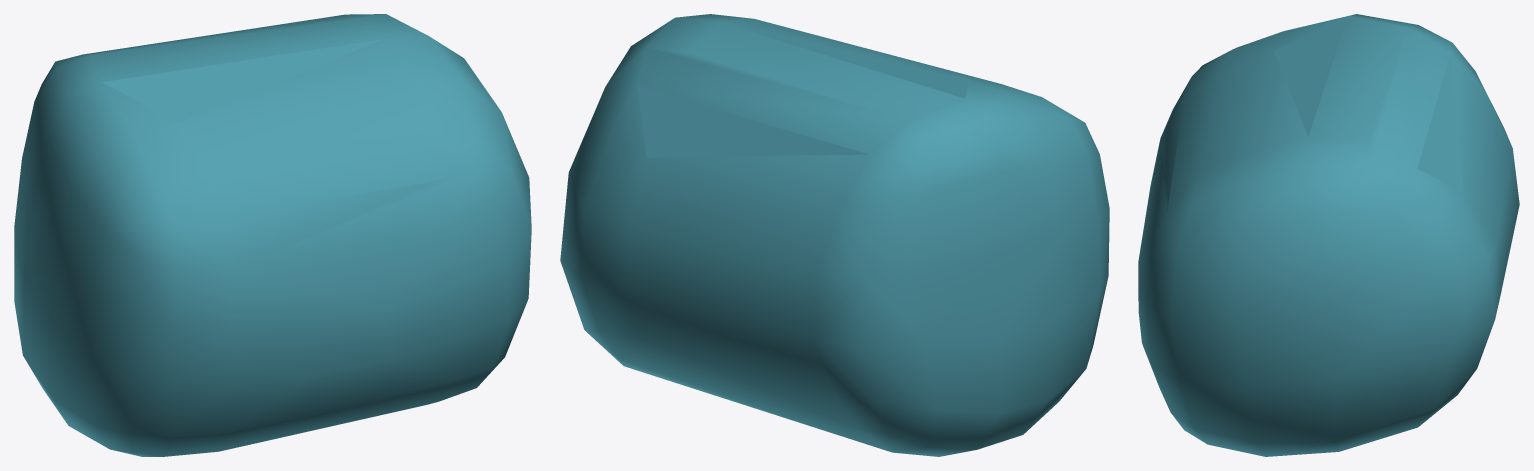
The model's file is COL_Alpha_Surface_024_convex_hull.dae.
The picture shows the model from 3 angles, left to right: view 1: azimuth 30°, elevation 25°; view 2: azimuth 150°, elevation 25°; view 3: azimuth 270°, elevation 25°; orthographic projection. The views are drawn at different scales.
Parts seen in each view (by area): view 1: COL_Alpha_Surface_024_convex_hull; view 2: COL_Alpha_Surface_024_convex_hull; view 3: COL_Alpha_Surface_024_convex_hull.
Part boxes in pixels (<box>): COL_Alpha_Surface_024_convex_hull: <box>14,14,531,456</box>; COL_Alpha_Surface_024_convex_hull: <box>560,14,1109,456</box>; COL_Alpha_Surface_024_convex_hull: <box>1138,14,1519,456</box>.
Bounding box in the file's own units: 2.84 × 2.31 × 2.1.
